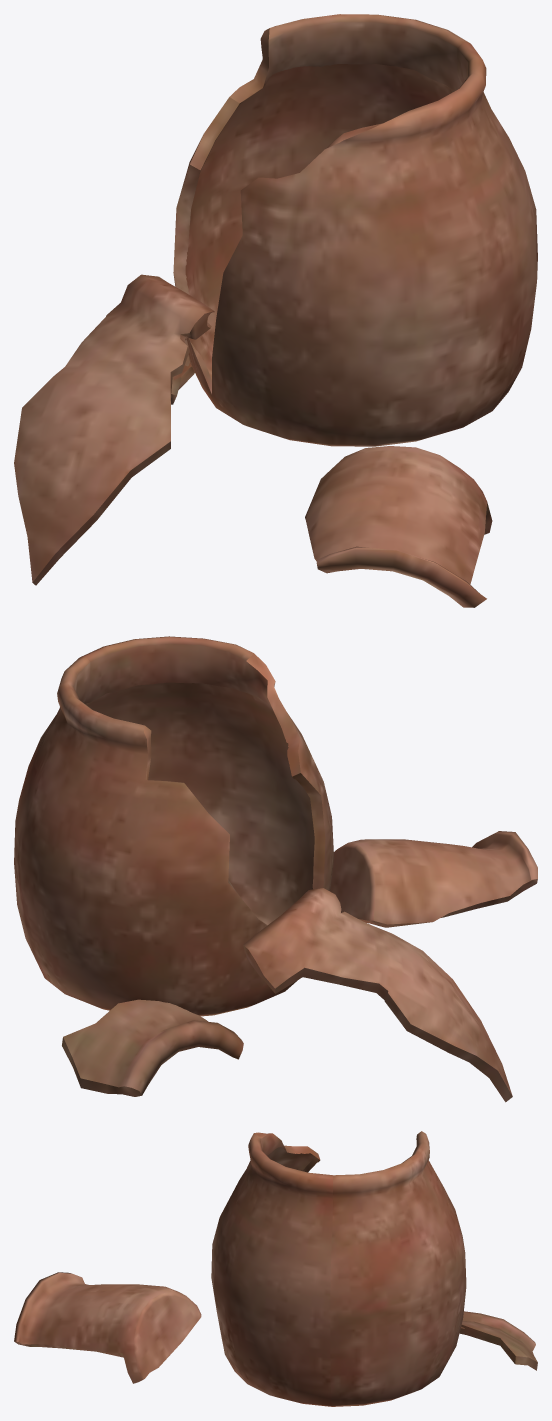
3 renders of one model, top to bottom at view 1: azimuth 30°, elevation 25°; view 2: azimuth 150°, elevation 25°; view 3: azimuth 270°, elevation 25°, orthographic. The views are drawn at different scales.
Parts seen in each view (by area): view 1: SM_Pot_04_Dmg_LOD0; view 2: SM_Pot_04_Dmg_LOD0; view 3: SM_Pot_04_Dmg_LOD0.
Part boxes in pixels (bbox=[...]): SM_Pot_04_Dmg_LOD0: bbox=[14, 14, 537, 607]; SM_Pot_04_Dmg_LOD0: bbox=[14, 636, 537, 1102]; SM_Pot_04_Dmg_LOD0: bbox=[14, 1131, 537, 1406].
Bounding box in the file's own units: 0.3804 × 0.2939 × 0.4829.
Materials: 1 (1 with a texture image).
